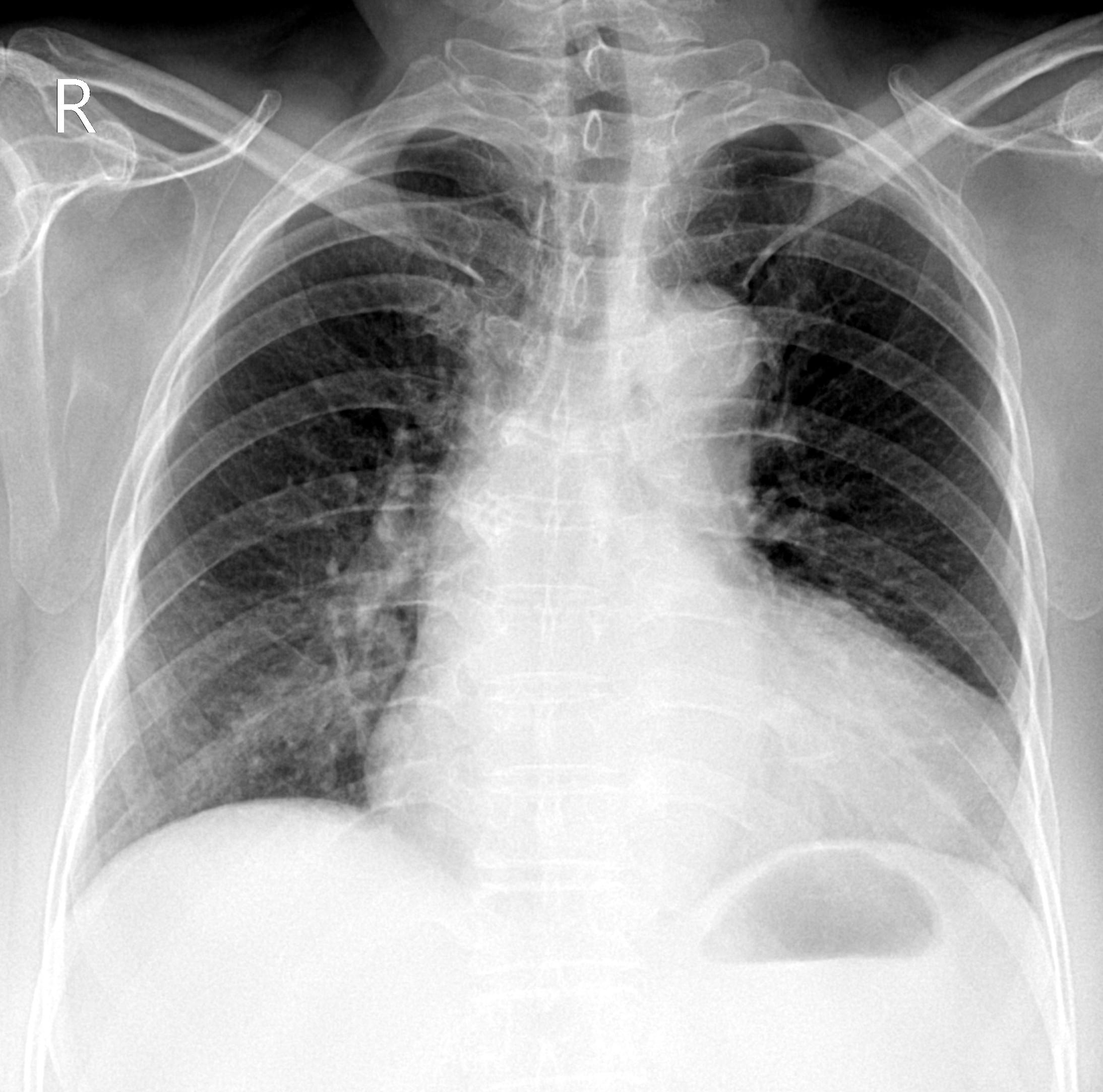Aortic enlargement: (602, 280, 760, 423)
Cardiomegaly: (356, 687, 1024, 843)
